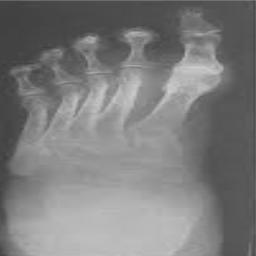cancer: (163, 61, 222, 100)
